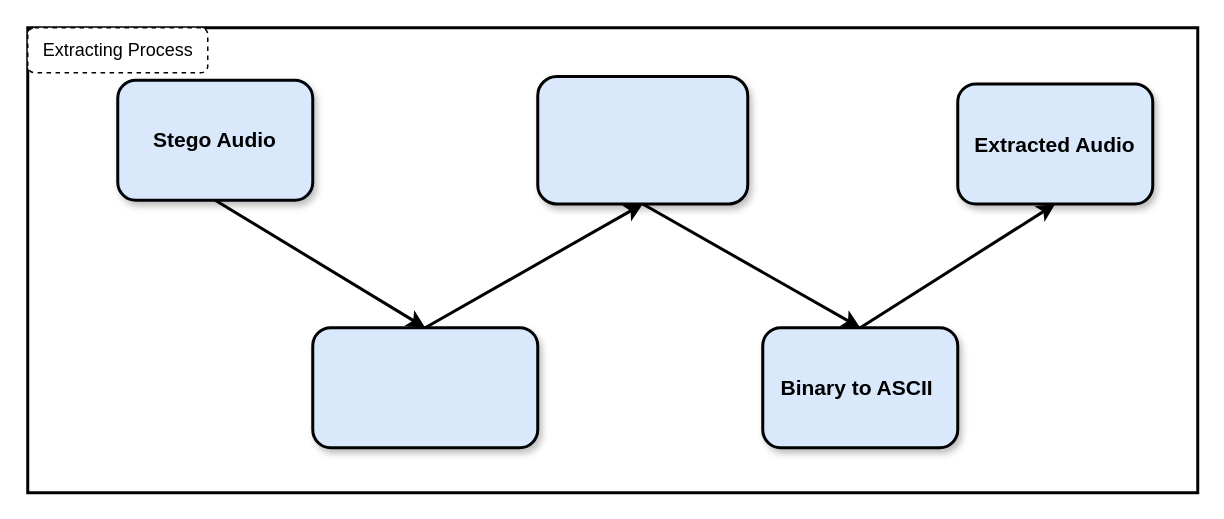
Image size: 1224x519. Some labels were removed from this diagram. Each missing label, with the centre of its shape:
Separate Header & Data: the point at 426,389
Store LSB of Data: the point at 644,141
